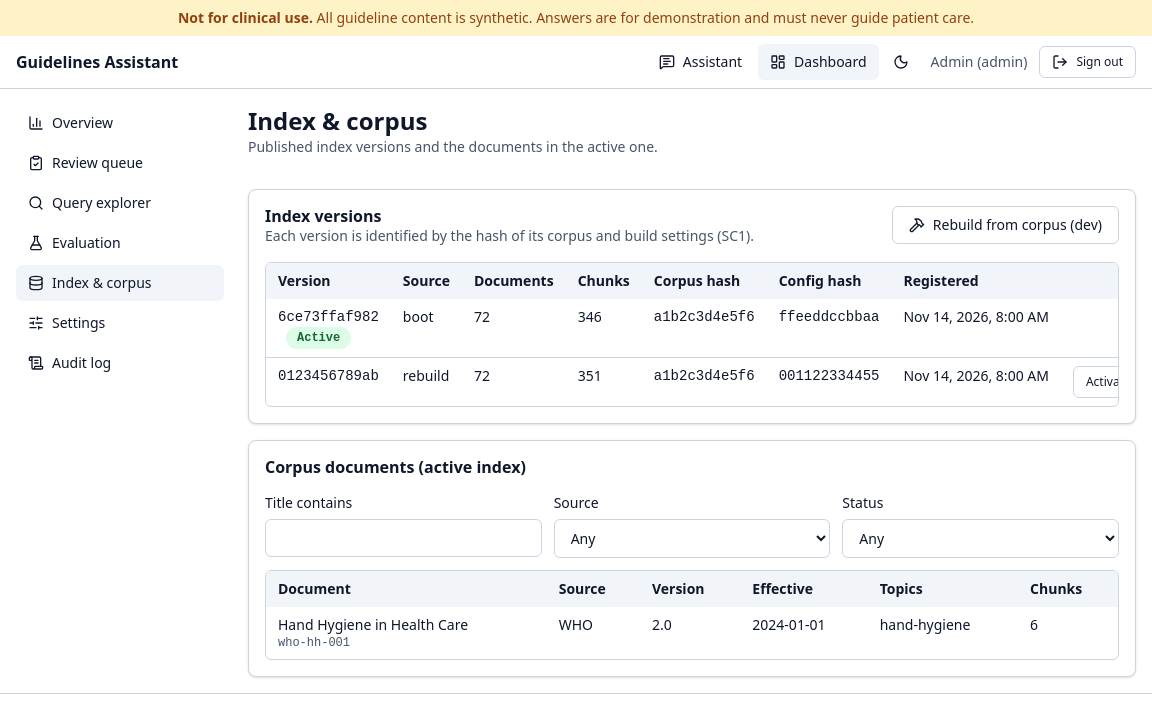
it: Admin dashboard › index: activation failure is shown in the dialog
The image size is (1152, 706).
Step 1. Click the button with aria-label "Activate version 0123456789ab" → click(1108, 382), box [1073,366,1144,398]
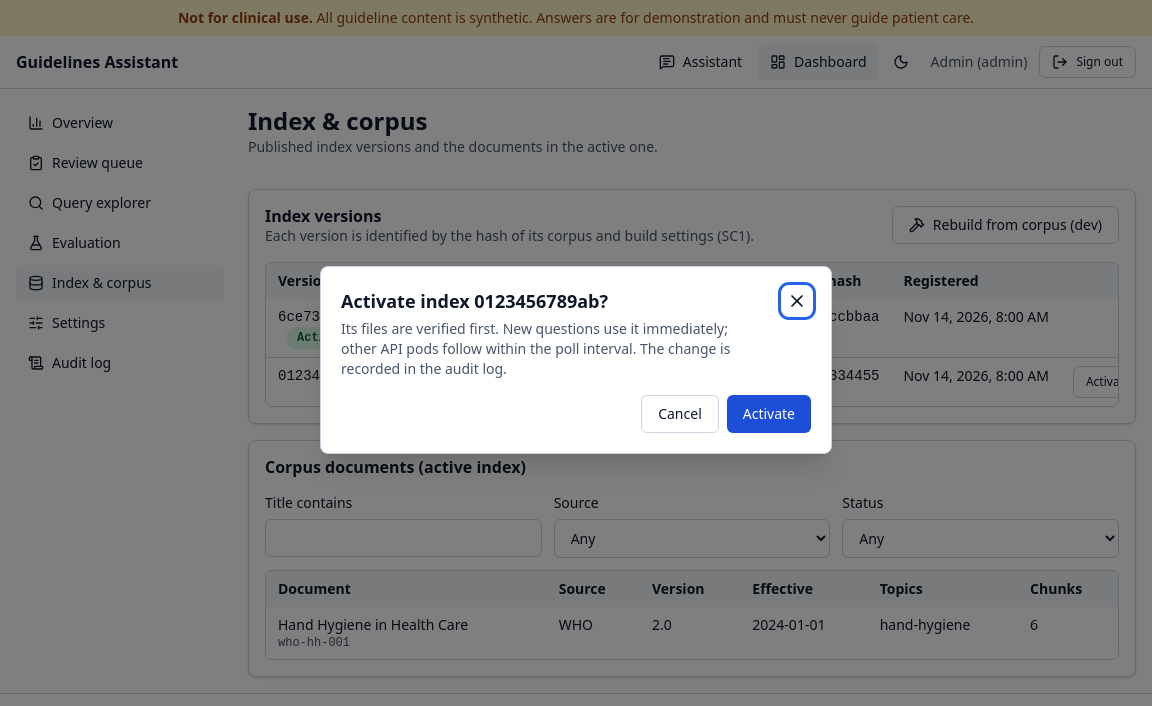
Step 2. Click the button with test id "activate-confirm" → click(769, 414), box [727,395,811,433]
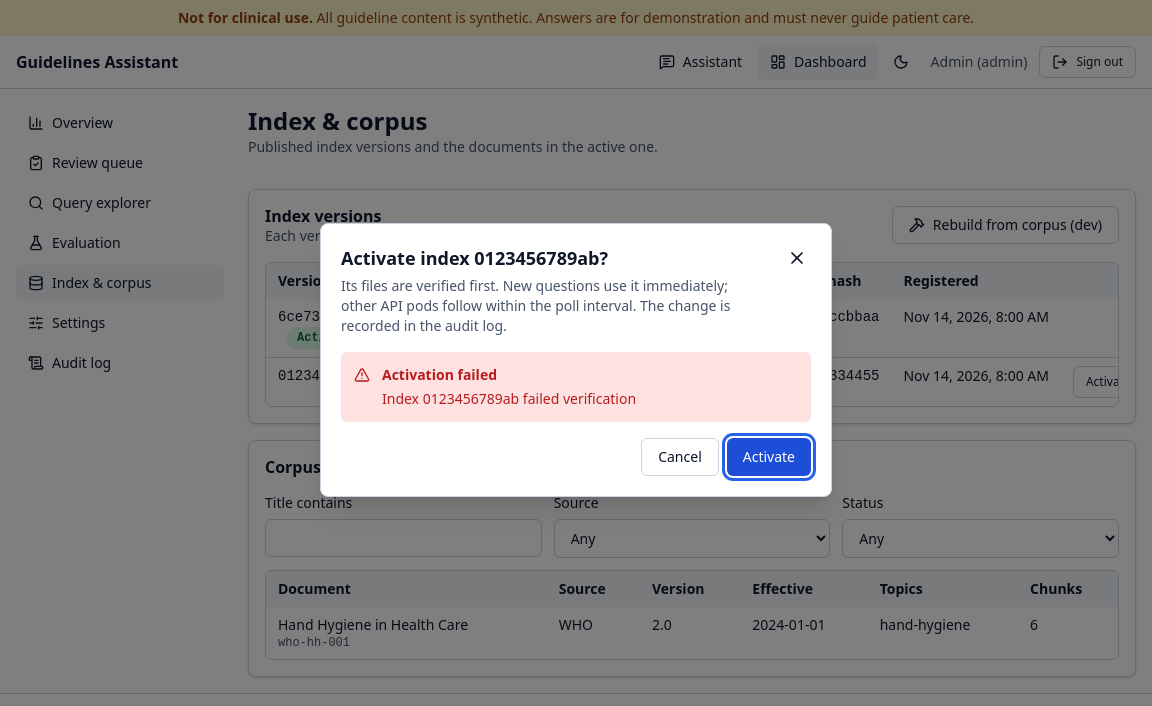
Expected: the message with test id "error-alert" shows "failed verification", [382,389,636,408]
